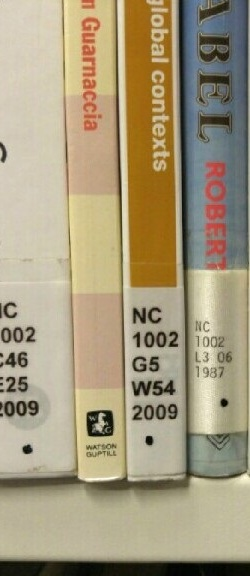call_number: (120, 288, 186, 449), (186, 268, 248, 435)
